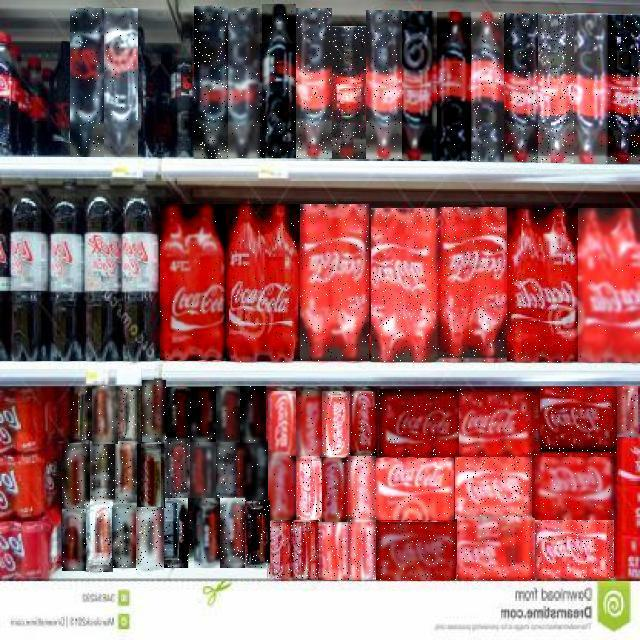Drinks: (226, 204, 300, 362), (507, 209, 578, 363), (300, 204, 369, 361), (439, 208, 507, 362), (372, 209, 440, 363), (160, 205, 226, 361), (578, 209, 640, 363), (379, 389, 461, 457), (574, 13, 610, 164), (296, 8, 332, 158), (538, 14, 574, 163), (366, 10, 402, 159), (262, 5, 296, 159), (540, 388, 617, 456), (194, 6, 228, 159), (471, 12, 505, 162), (228, 8, 262, 158), (505, 13, 539, 162), (402, 11, 436, 160), (105, 8, 139, 157), (71, 8, 105, 157), (437, 12, 471, 160), (460, 392, 538, 456), (535, 458, 614, 520), (456, 458, 534, 520), (457, 518, 535, 580), (377, 458, 455, 520), (609, 14, 640, 164), (534, 520, 614, 578), (376, 522, 456, 580), (332, 26, 366, 159), (164, 498, 192, 568), (85, 502, 113, 572), (349, 391, 377, 457), (322, 391, 350, 457), (269, 391, 297, 457), (349, 456, 377, 522), (62, 444, 90, 510), (269, 456, 297, 521), (194, 498, 220, 568), (322, 458, 350, 522), (244, 500, 270, 568), (137, 444, 165, 507), (220, 498, 245, 568), (136, 508, 164, 570), (296, 391, 322, 457), (296, 456, 322, 522), (349, 520, 377, 580), (294, 520, 322, 580), (112, 442, 137, 508), (240, 442, 268, 500), (321, 522, 349, 580), (268, 520, 296, 578), (90, 442, 115, 504), (216, 442, 242, 500), (165, 440, 191, 498), (93, 387, 119, 445), (142, 380, 166, 442), (112, 507, 136, 569), (62, 509, 86, 571), (240, 386, 266, 443), (190, 442, 216, 498), (190, 387, 216, 442), (215, 386, 240, 443), (166, 388, 191, 442), (118, 386, 140, 442), (617, 386, 639, 437), (72, 386, 92, 440)
